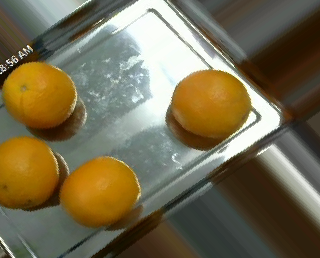Orange: (59, 153, 141, 228), (171, 69, 251, 139), (3, 61, 77, 129), (1, 136, 58, 210)
